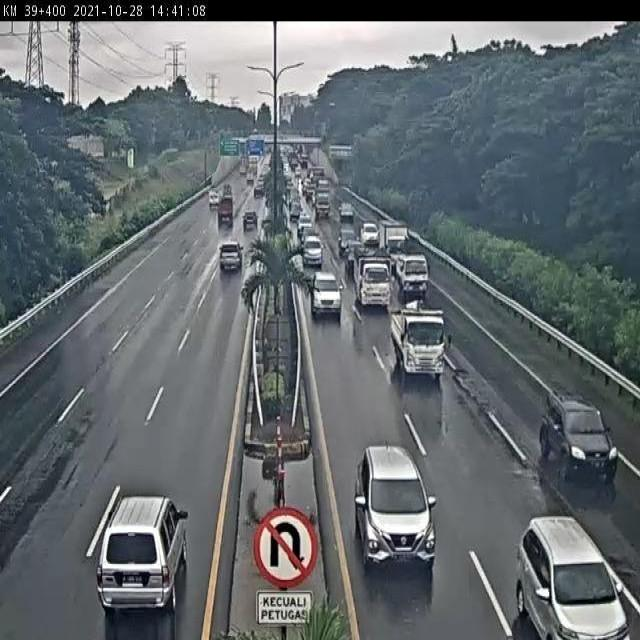car: (353, 441, 437, 571), (538, 388, 618, 480), (309, 270, 342, 318)
mid truck: (95, 492, 190, 619), (217, 239, 243, 273)
truck-m-: (390, 306, 445, 382), (351, 251, 392, 309)
truck-s-: (395, 250, 429, 298)
